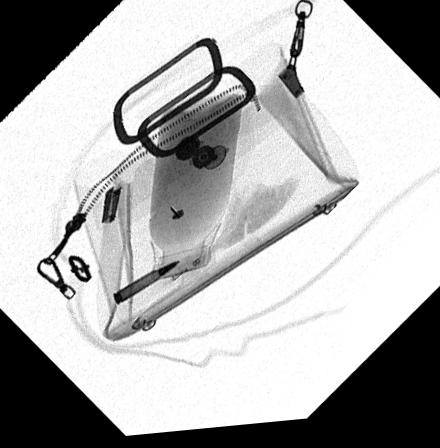Bullet: (110, 263, 180, 307)
